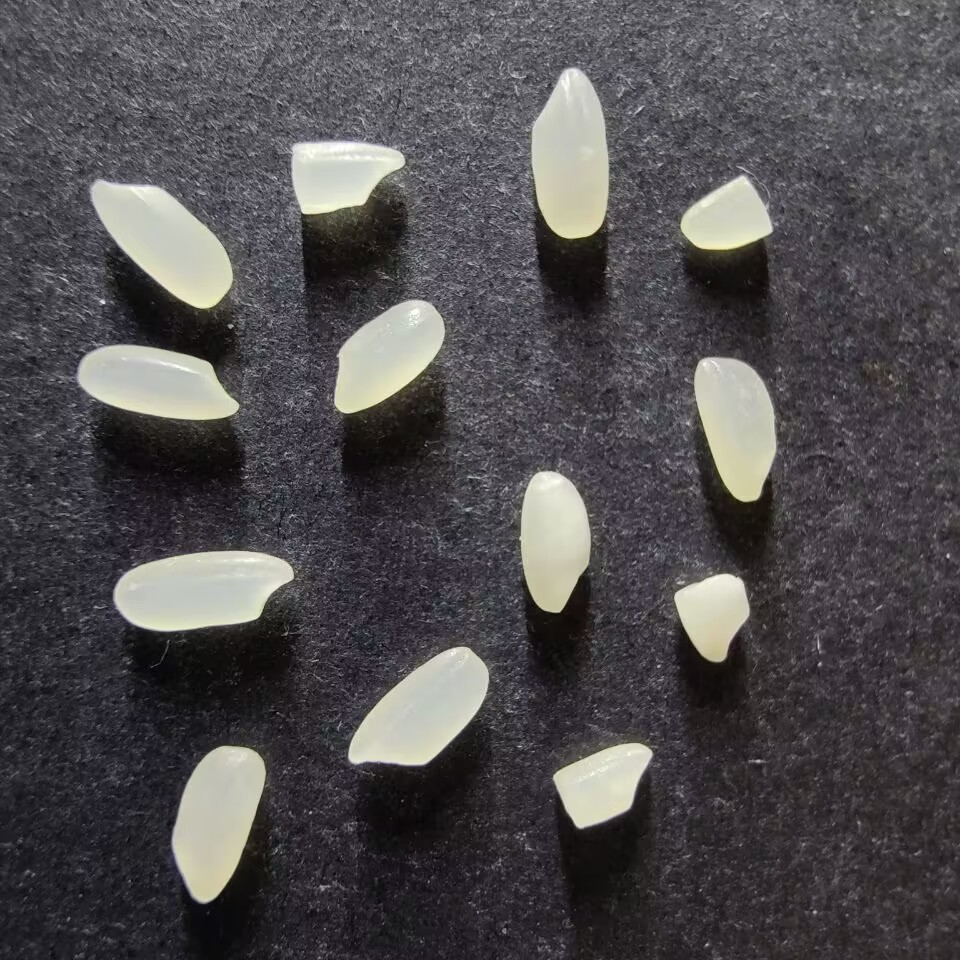broken: (552, 741, 653, 829), (289, 140, 405, 214), (680, 175, 772, 250), (673, 573, 750, 662)
rice: (89, 179, 233, 308), (347, 647, 489, 767), (170, 745, 265, 903), (113, 550, 294, 632), (529, 67, 609, 239), (332, 300, 444, 414), (692, 356, 778, 503), (76, 344, 239, 419), (519, 470, 590, 613)
